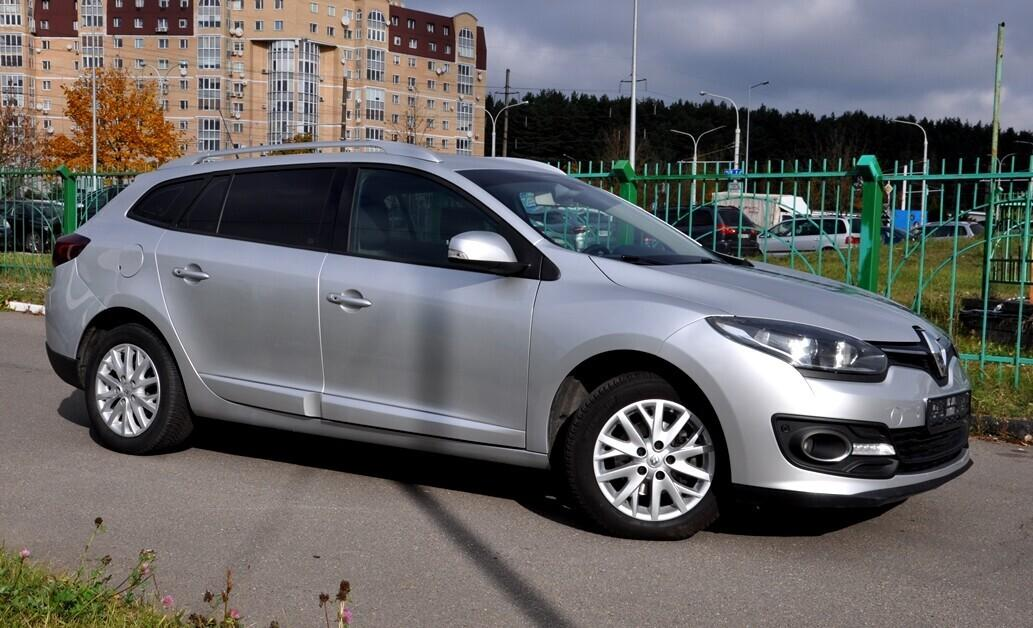Megane_2014-2016: (43, 145, 983, 536)
